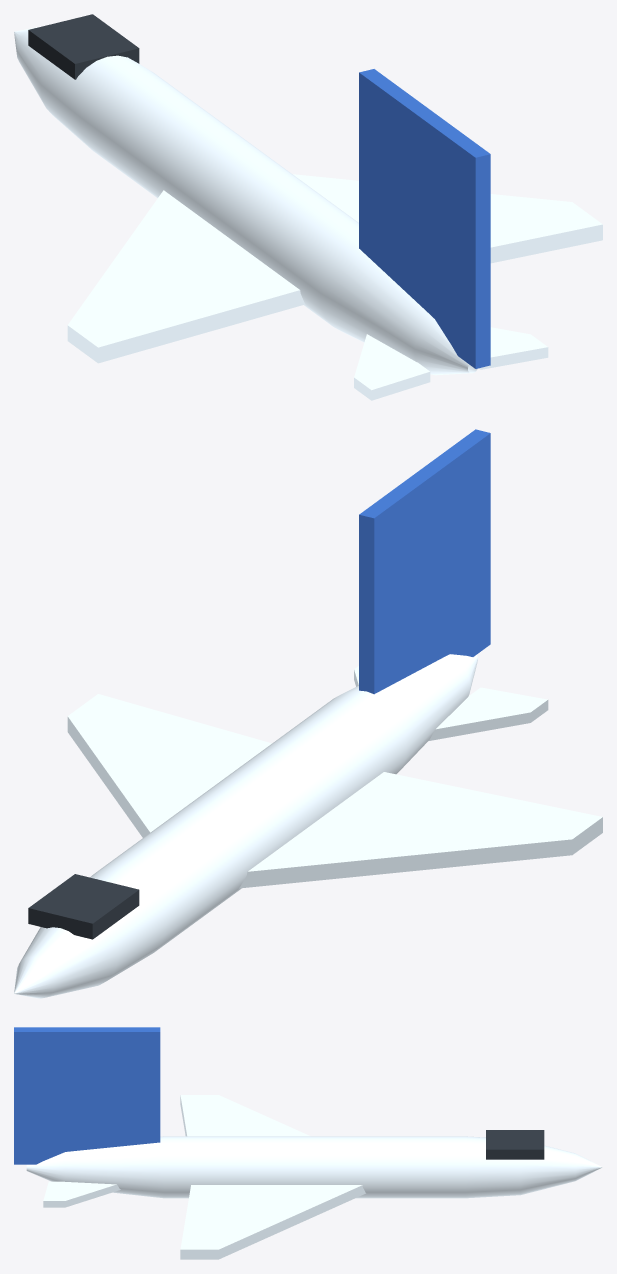
Rendered from fighter.glb.
3 views of the same model, one above another, from view 1: azimuth 30°, elevation 25°; view 2: azimuth 150°, elevation 25°; view 3: azimuth 270°, elevation 25° (orthographic). The views are drawn at different scales.
Parts seen in each view (by area): view 1: Streamlined fuselage, Swept wing (×2), Vertical stabilizer, Tailplane (×2), Cockpit glazing; view 2: Streamlined fuselage, Swept wing (×2), Vertical stabilizer, Cockpit glazing, Tailplane; view 3: Streamlined fuselage, Vertical stabilizer, Swept wing (×2), Cockpit glazing, Tailplane.
Part boxes in pixels (left/top/right/bottom): Streamlined fuselage: left=14, top=27, right=477, bottom=375; Swept wing (×2): left=67, top=174, right=602, bottom=363; Vertical stabilizer: left=359, top=69, right=490, bottom=368; Tailplane (×2): left=354, top=327, right=548, bottom=400; Cockpit glazing: left=28, top=14, right=139, bottom=79; Streamlined fuselage: left=14, top=654, right=477, bottom=998; Swept wing (×2): left=67, top=694, right=602, bottom=888; Vertical stabilizer: left=359, top=429, right=490, bottom=694; Cockpit glazing: left=28, top=874, right=139, bottom=939; Tailplane: left=428, top=687, right=548, bottom=741; Streamlined fuselage: left=26, top=1136, right=602, bottom=1198; Vertical stabilizer: left=14, top=1027, right=160, bottom=1164; Swept wing (×2): left=180, top=1095, right=365, bottom=1259; Cockpit glazing: left=486, top=1130, right=544, bottom=1159; Tailplane: left=43, top=1181, right=120, bottom=1207.
Bounding box in the file's own units: 10 × 5 × 16.1.
